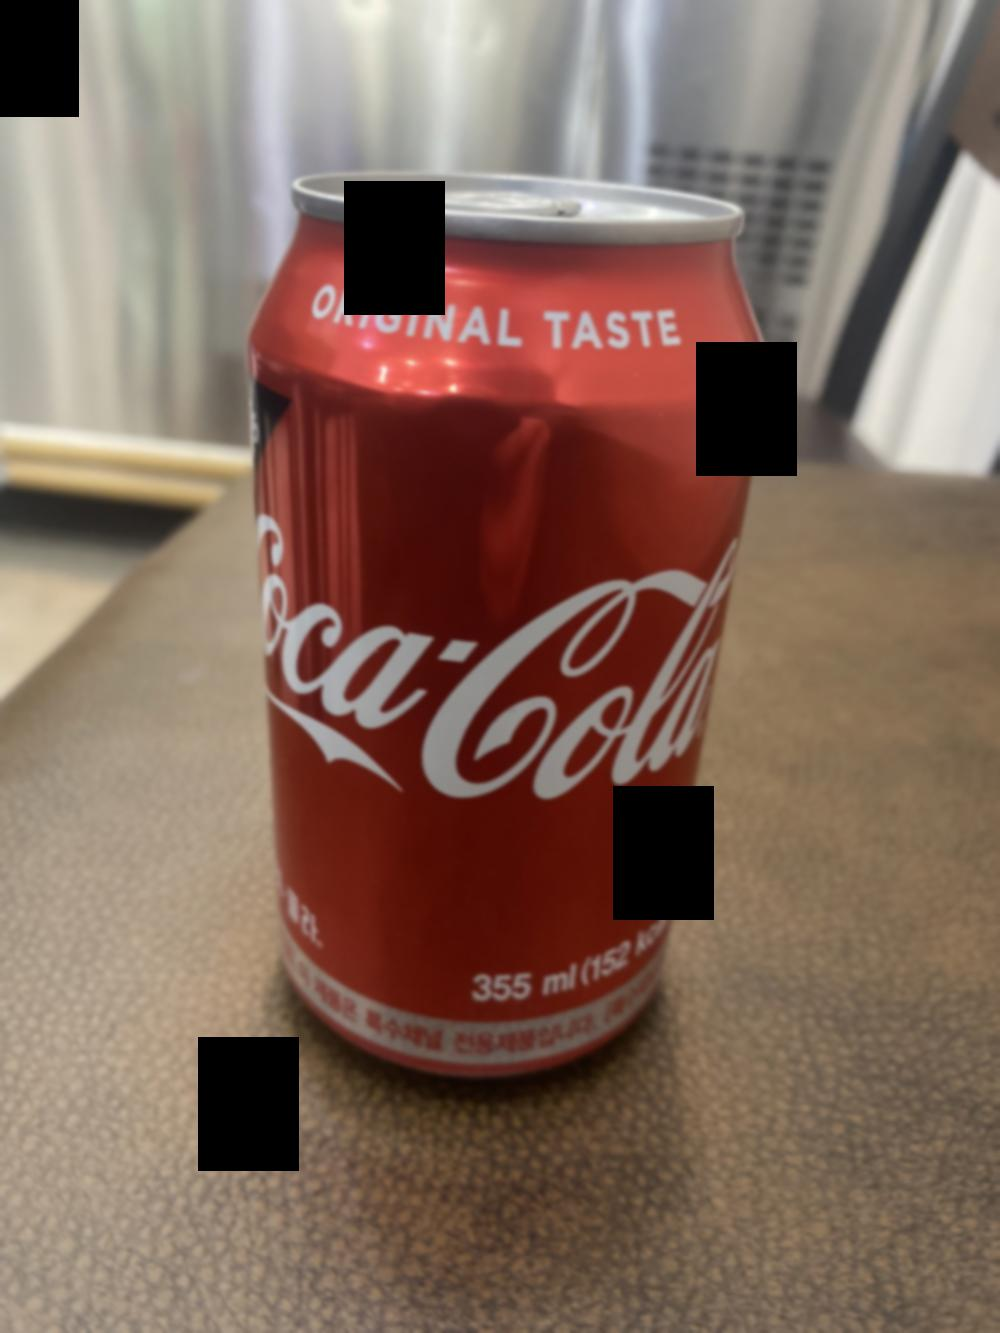cocacola: (251, 162, 770, 1089)
